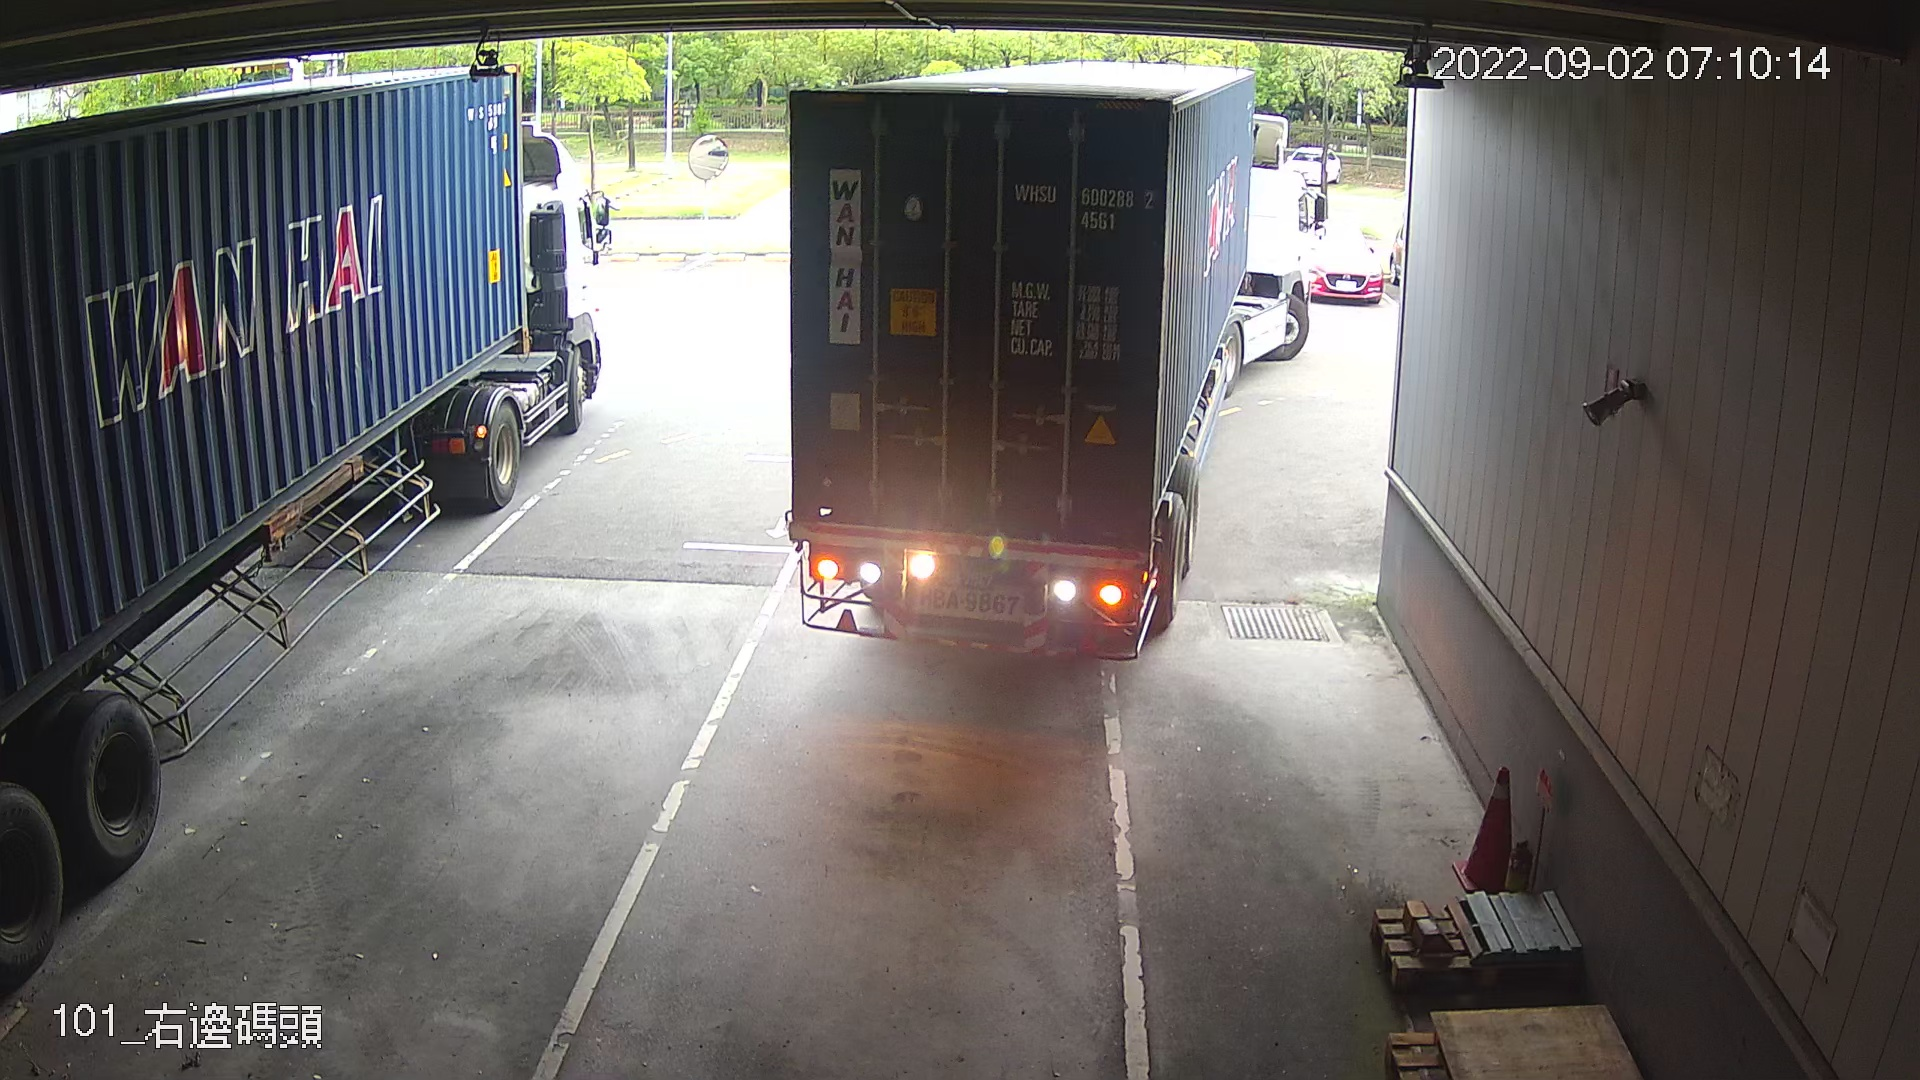container: (1004, 171, 1163, 241)
